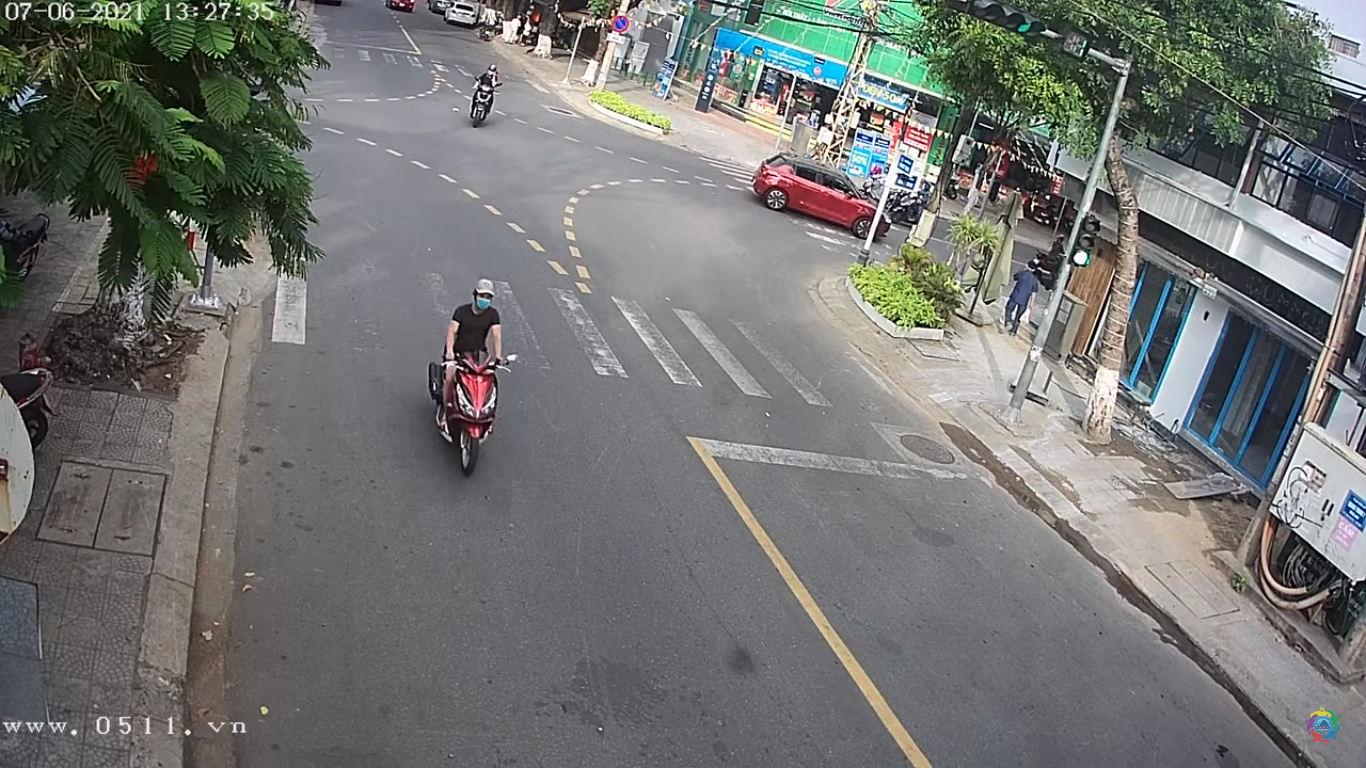motorbike: (424, 276, 522, 468)
